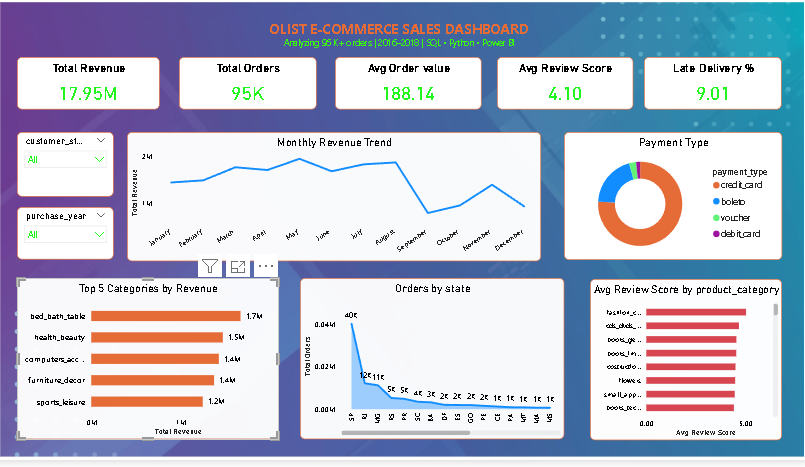

This screenshot's page, from the dashboard's own definition file:
{"tool":"powerbi","page":{"name":"Page 1","canvas":[1280,720],"ordinal":0},"visuals":[{"type":"image","box":[14.6,0,1265.9,720],"z":0},{"type":"textbox","box":[100,24.3,1084.3,57.1],"z":1000},{"type":"card","title":"Total Revenue","fields":{"Values":["olist_master_clean.Total Revenue"]},"box":[45.4,90.7,142,82],"z":2000},{"type":"card","title":"Total Orders","fields":{"Values":["olist_master_clean.Total Orders"]},"box":[203.4,90.7,156.6,82],"z":3000},{"type":"card","title":"Avg Order value","fields":{"Values":["olist_master_clean.Avg Order Value"]},"box":[383.4,90.7,158,82],"z":4000},{"type":"card","title":"Avg Review Score","fields":{"Values":["olist_master_clean.Avg Review Score"]},"box":[566.3,90.7,162.4,82],"z":5000},{"type":"card","title":"Late Delivery %","fields":{"Values":["olist_master_clean.Late Delivery Rate"]},"box":[749.3,90.7,162.4,82],"z":6000},{"type":"clusteredColumnChart","title":"Monthly Revenue Trend","fields":{"Category":["olist_master_clean.purchase_yearmonth.Variation.Date Hierarchy.Month"],"Y":["olist_master_clean.Total Revenue"]},"box":[298.5,207.8,570.7,200.5],"z":7000},{"type":"donutChart","title":"Payment Type","fields":{"Y":["olist_master_clean.Total Orders"],"Category":["olist_master_clean.payment_type"]},"box":[900,207.8,341,200.5],"z":8000},{"type":"clusteredBarChart","title":"Top 5 Categories by Revenue","fields":{"Category":["olist_master_clean.product_category_name_english"],"Y":["olist_master_clean.Total Revenue"]},"box":[298.5,437.6,300,251.7],"z":9000},{"type":"barChart","title":"Orders by state","fields":{"Y":["olist_master_clean.Total Orders"],"Category":["olist_master_clean.customer_state"]},"box":[622,437.6,300,251.7],"z":10000},{"type":"barChart","title":"Avg Review Score by product_category","fields":{"Category":["olist_master_clean.product_category_name_english"],"Y":["olist_master_clean.Avg Review Score"]},"box":[941,437.6,300,251.7],"z":11000},{"type":"slicer","fields":{"Values":["olist_master_clean.customer_state"]},"box":[941,90.7,150.7,82],"z":12000},{"type":"slicer","fields":{"Values":["olist_master_clean.purchase_year"]},"box":[1110.7,90.7,127.3,82],"z":13000},{"type":"textbox","box":[44.9,207.2,237.7,89.9],"z":14000},{"type":"textbox","box":[44.9,308.7,237.7,87],"z":15000},{"type":"textbox","box":[44.9,408.7,237.7,81.2],"z":16000},{"type":"textbox","box":[44.9,501.4,237.7,87],"z":17000},{"type":"textbox","box":[45.4,602.9,237.1,86.3],"z":18000}]}

Visuals, with their boxes on the page's 1280x720 design canvas (x1, y1, x2, y2). These are canvas units, not pixel positions in the 805x467 screenshot, which may show the page scaled, cropped or inside an application window:
image: region(15, 0, 1280, 720)
textbox: region(100, 24, 1184, 81)
"Total Revenue" card: region(45, 91, 187, 173)
"Total Orders" card: region(203, 91, 360, 173)
"Avg Order value" card: region(383, 91, 541, 173)
"Avg Review Score" card: region(566, 91, 729, 173)
"Late Delivery %" card: region(749, 91, 912, 173)
"Monthly Revenue Trend" clusteredColumnChart: region(298, 208, 869, 408)
"Payment Type" donutChart: region(900, 208, 1241, 408)
"Top 5 Categories by Revenue" clusteredBarChart: region(298, 438, 598, 689)
"Orders by state" barChart: region(622, 438, 922, 689)
"Avg Review Score by product_category" barChart: region(941, 438, 1241, 689)
slicer - olist_master_clean.customer_state: region(941, 91, 1092, 173)
slicer - olist_master_clean.purchase_year: region(1111, 91, 1238, 173)
textbox: region(45, 207, 283, 297)
textbox: region(45, 309, 283, 396)
textbox: region(45, 409, 283, 490)
textbox: region(45, 501, 283, 588)
textbox: region(45, 603, 282, 689)
